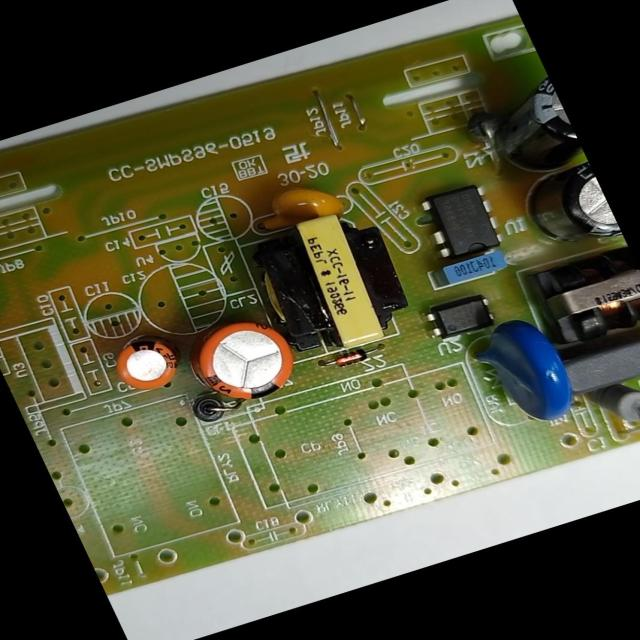Cap1: (179, 311, 306, 413)
Cap2: (105, 332, 186, 397)
Cap3: (508, 160, 622, 260)
Cap4: (471, 74, 588, 184)
MOSFET: (414, 180, 508, 266)
Mov: (457, 310, 587, 435)
Resistor: (586, 374, 640, 434)
Transformer: (241, 200, 428, 364), (523, 244, 640, 356)
